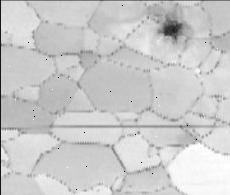good_void: (156, 11, 184, 42)
